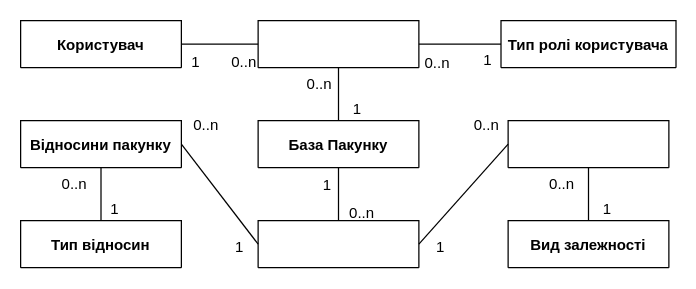
Image size: 696x289. Some labels were removed from this diagram. Here are the shapes that lost their labels. From the top down, the box of each, then its label:
(257, 19, 419, 68): Роль Користувача
(507, 119, 669, 168): Залежності Пакунку
(257, 219, 419, 268): Пакунок
